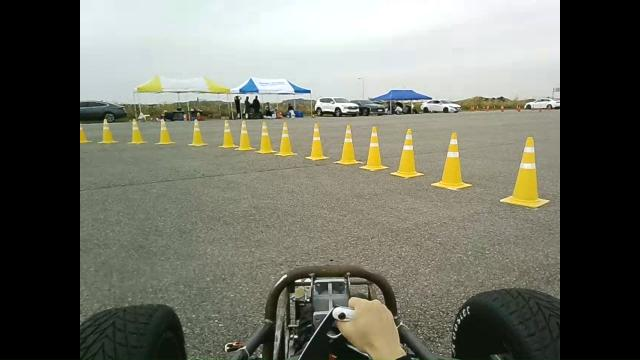yellow cone: (499, 136, 550, 209), (431, 132, 472, 190), (390, 128, 424, 178), (359, 125, 389, 171), (334, 124, 364, 165), (304, 122, 330, 161), (274, 121, 297, 157), (255, 120, 278, 154), (234, 120, 255, 150), (218, 119, 238, 148), (155, 117, 175, 145), (97, 118, 118, 144), (188, 119, 208, 146), (128, 118, 146, 144), (80, 124, 92, 143)
